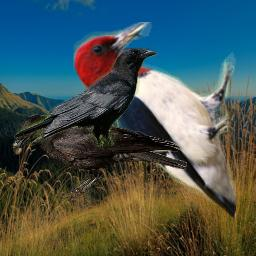Crow: (10, 114, 187, 200), (14, 48, 158, 149)
Woodpecker: (71, 22, 236, 218)
